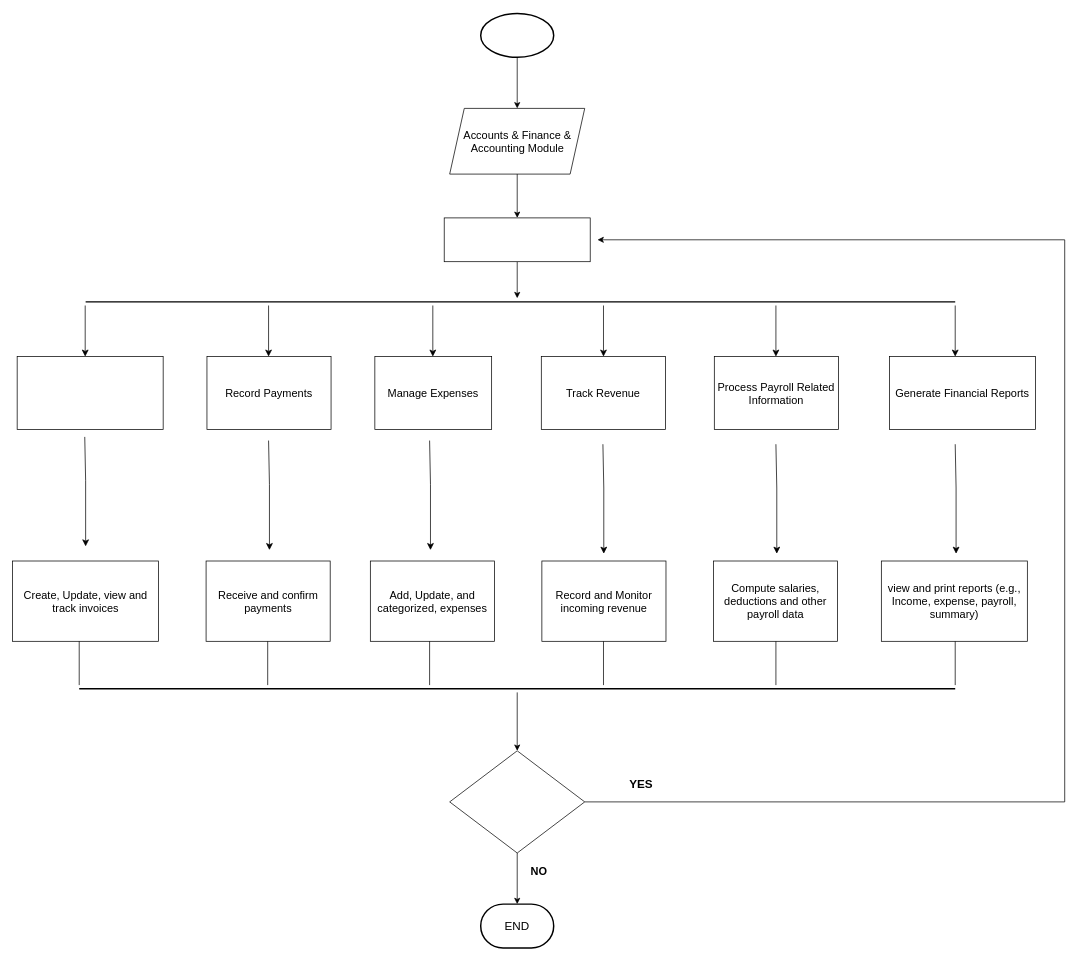
Some shapes in this 1084 by 961 pixel diagram are drawn without their labels. Here are the shapes that lost their labels. From the top down, the box of each, then its label:
(480, 12, 554, 58): START
(443, 217, 590, 262): Select Transaction Type or Process
(16, 356, 163, 430): Manage invoices
(449, 750, 585, 853): Do you want to process another Transaction?
